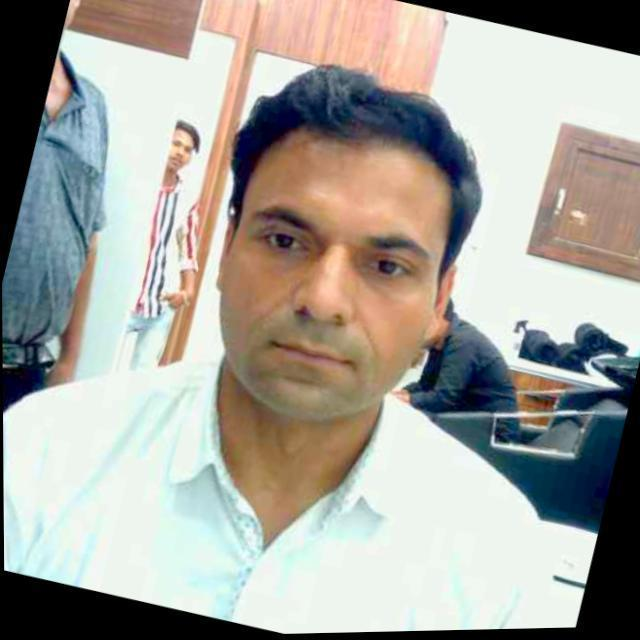puffy_eyes: (355, 270, 412, 295), (268, 254, 318, 271)
